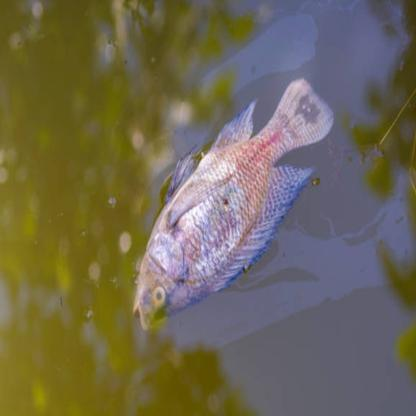deceased fish: (117, 72, 335, 329)
